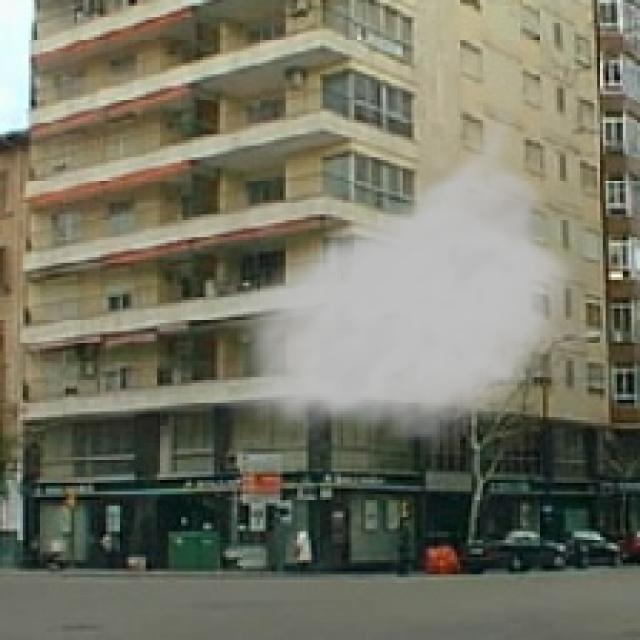smoke: (217, 100, 589, 449)
